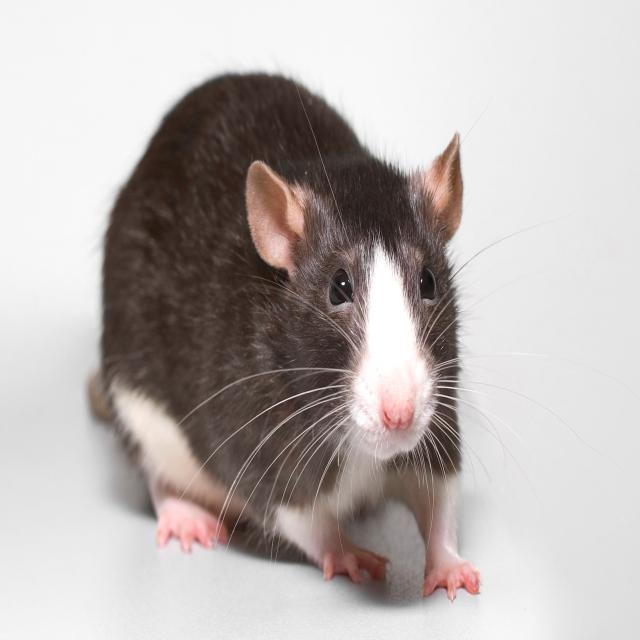rat: (89, 73, 481, 600)
